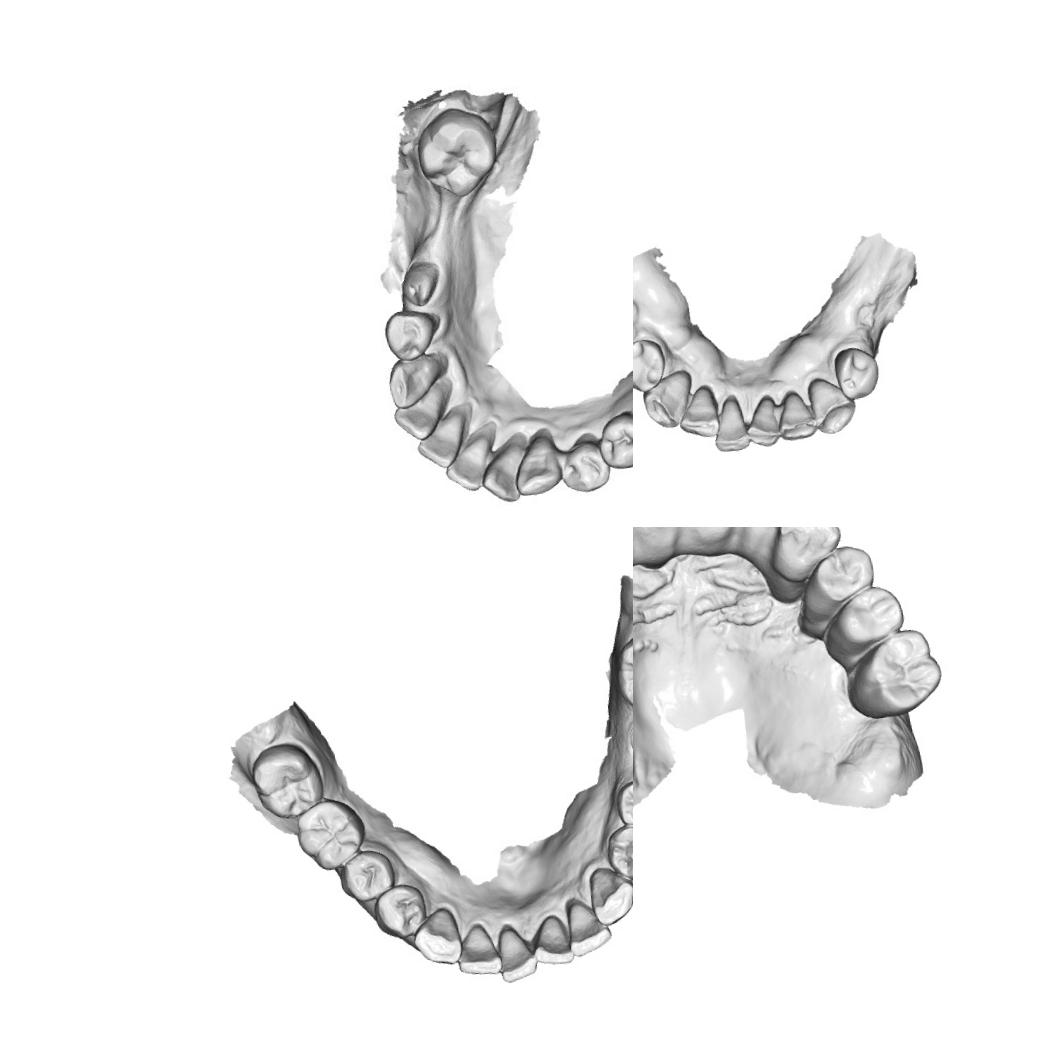canine: (766, 527, 847, 582), (507, 430, 562, 506), (639, 368, 698, 432), (805, 373, 860, 437), (408, 905, 463, 969), (385, 352, 450, 404), (584, 861, 633, 928)
incisor: (389, 382, 454, 445), (413, 412, 476, 474), (476, 443, 532, 509), (441, 428, 494, 496), (564, 892, 614, 959), (492, 922, 540, 985), (453, 920, 502, 979), (528, 912, 576, 972), (674, 384, 722, 442), (708, 393, 750, 454), (774, 390, 819, 444), (742, 394, 782, 449), (737, 527, 801, 542)
molar: (410, 102, 503, 202), (854, 623, 948, 721), (246, 737, 328, 824), (290, 794, 371, 876), (611, 626, 633, 716)
premolar: (830, 581, 907, 652), (804, 538, 880, 608), (378, 303, 450, 362), (368, 880, 432, 941), (336, 846, 399, 906), (560, 432, 617, 496), (832, 343, 882, 402), (597, 407, 633, 472), (633, 336, 669, 395), (600, 820, 633, 884), (612, 773, 633, 833)
